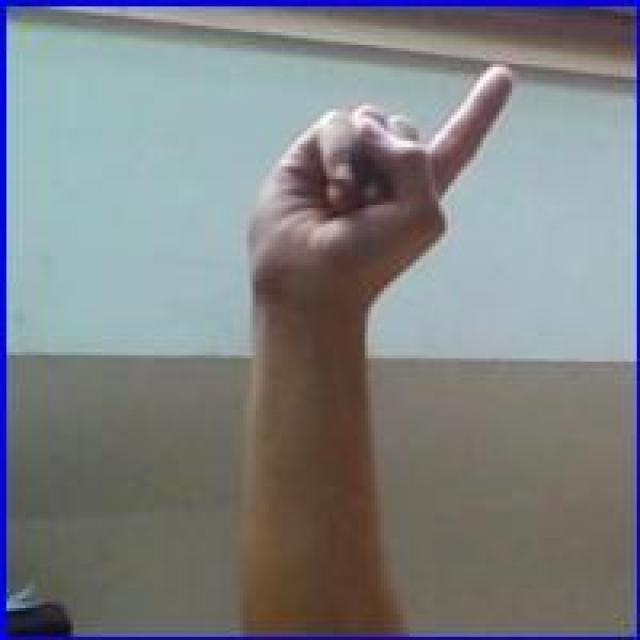Z: (237, 62, 515, 309)
